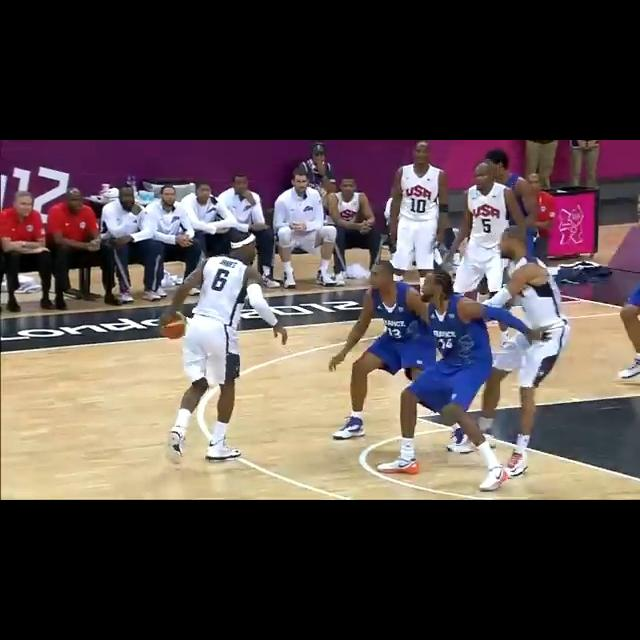basketball: (156, 309, 191, 340)
